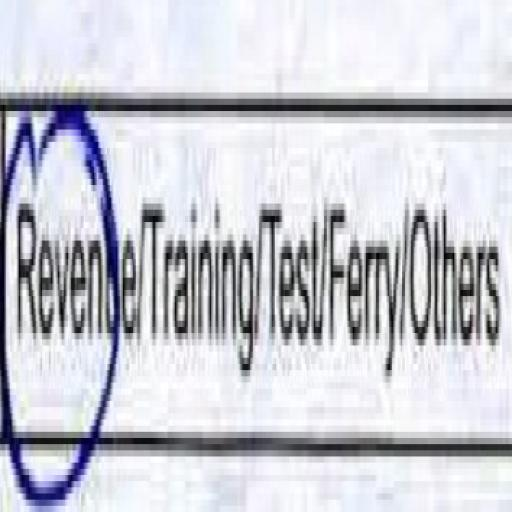check: (0, 37, 143, 506)
